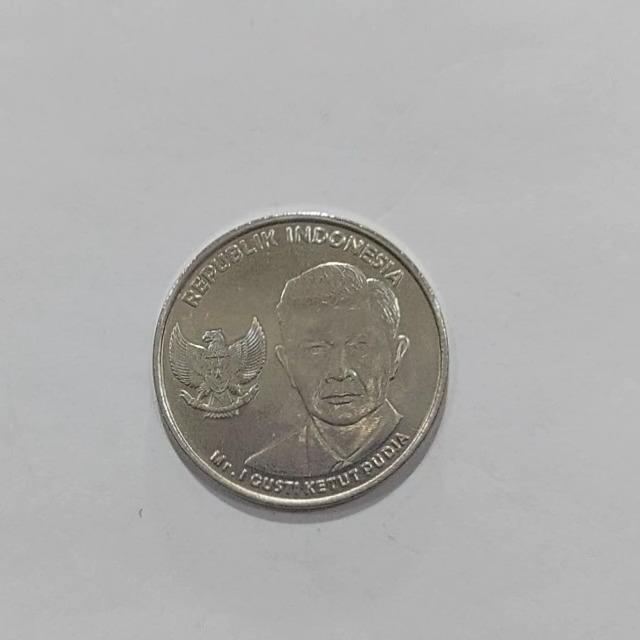Rp100: (151, 210, 450, 512), (238, 257, 413, 482)
